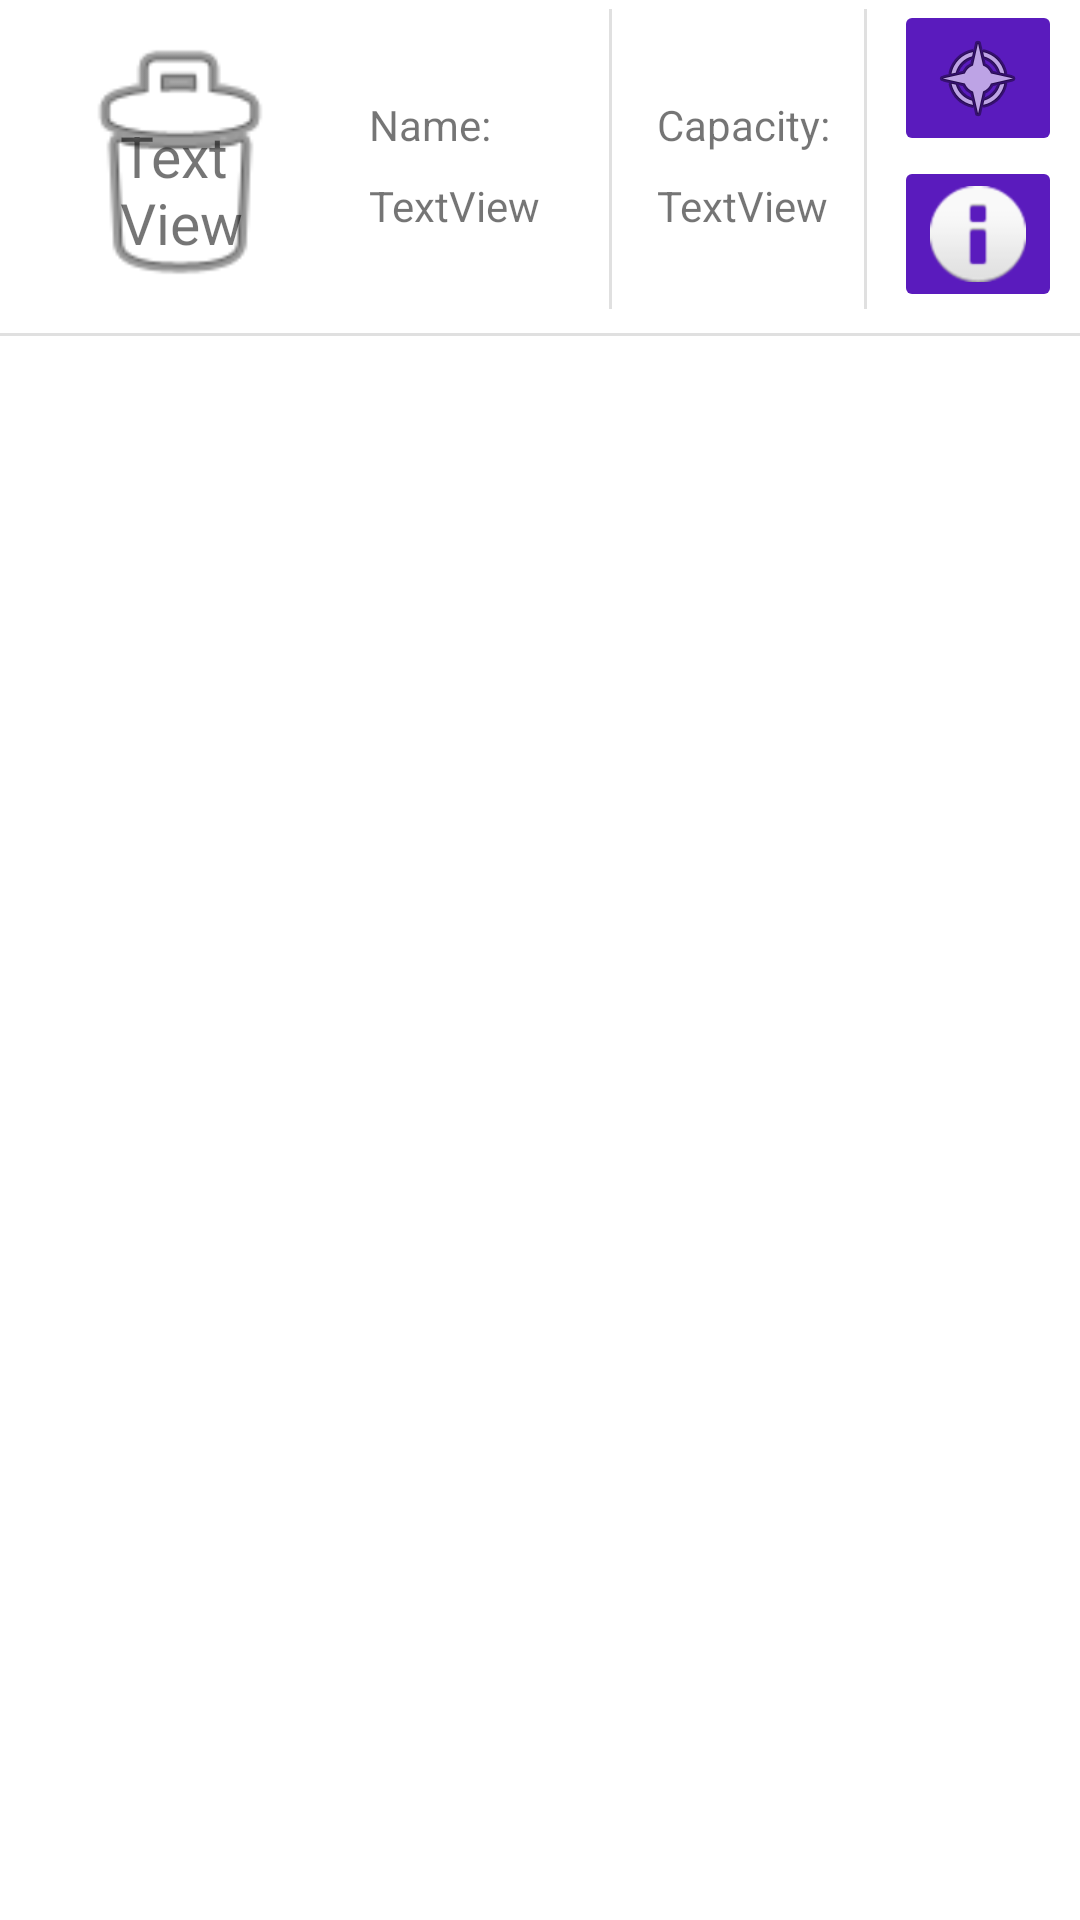

Icons on this 1080×1920 Android screen, each with the point to tap as (x=x, y=y):
compass: (x=978, y=78)
delete: (x=180, y=162)
info: (x=978, y=234)
